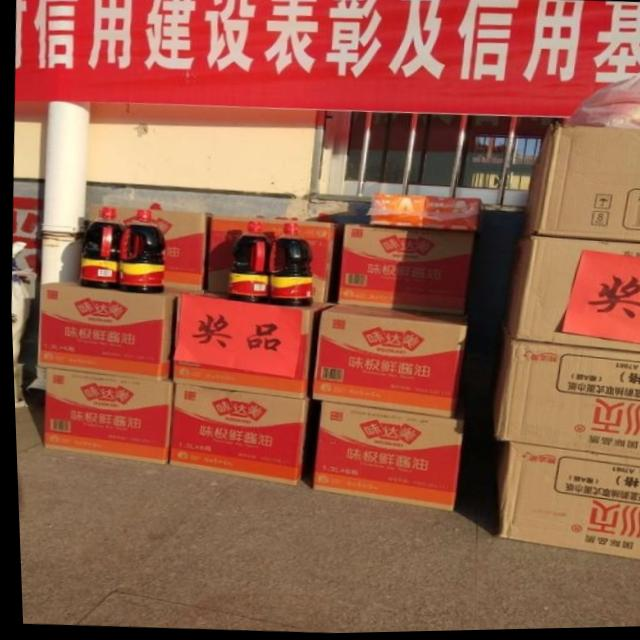box: (489, 337, 640, 461), (308, 304, 464, 420), (493, 445, 640, 562), (309, 403, 460, 514), (502, 238, 640, 358), (170, 292, 312, 401), (164, 384, 308, 487), (523, 127, 640, 247), (33, 282, 174, 381), (39, 368, 173, 466), (333, 226, 472, 318), (154, 211, 207, 293)
